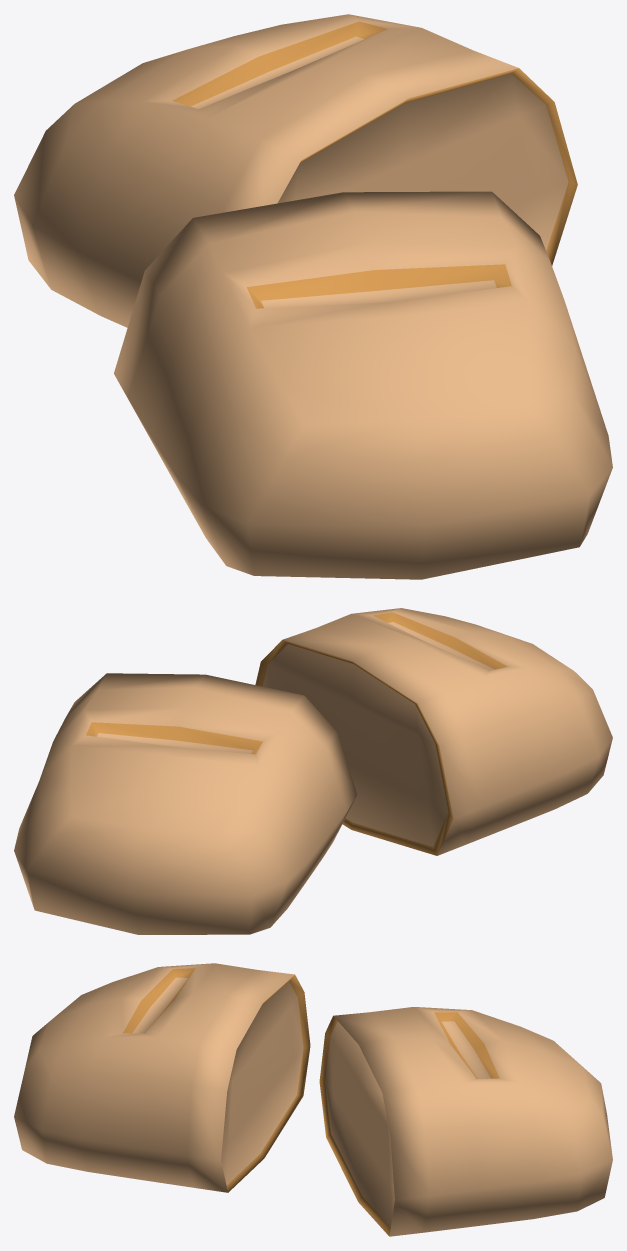
The model's file is SlicedBreadRoll.fbx.
3 renders of one model, top to bottom at view 1: azimuth 30°, elevation 25°; view 2: azimuth 150°, elevation 25°; view 3: azimuth 270°, elevation 25°, orthographic. The views are drawn at different scales.
Visible parts, largest first — view 1: SlicedBreadRoll; view 2: SlicedBreadRoll; view 3: SlicedBreadRoll.
Boxes of the visible parts, box(x1,y1,x2,y2) form: SlicedBreadRoll: box(14, 14, 612, 579); SlicedBreadRoll: box(14, 608, 612, 934); SlicedBreadRoll: box(14, 963, 612, 1236).
Bounding box in the file's own units: 39.16 × 16.33 × 55.31.
